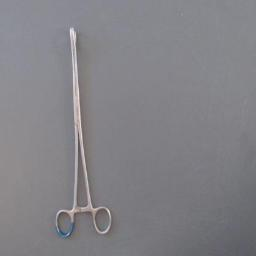Sponge Forceps: (52, 19, 116, 241)
